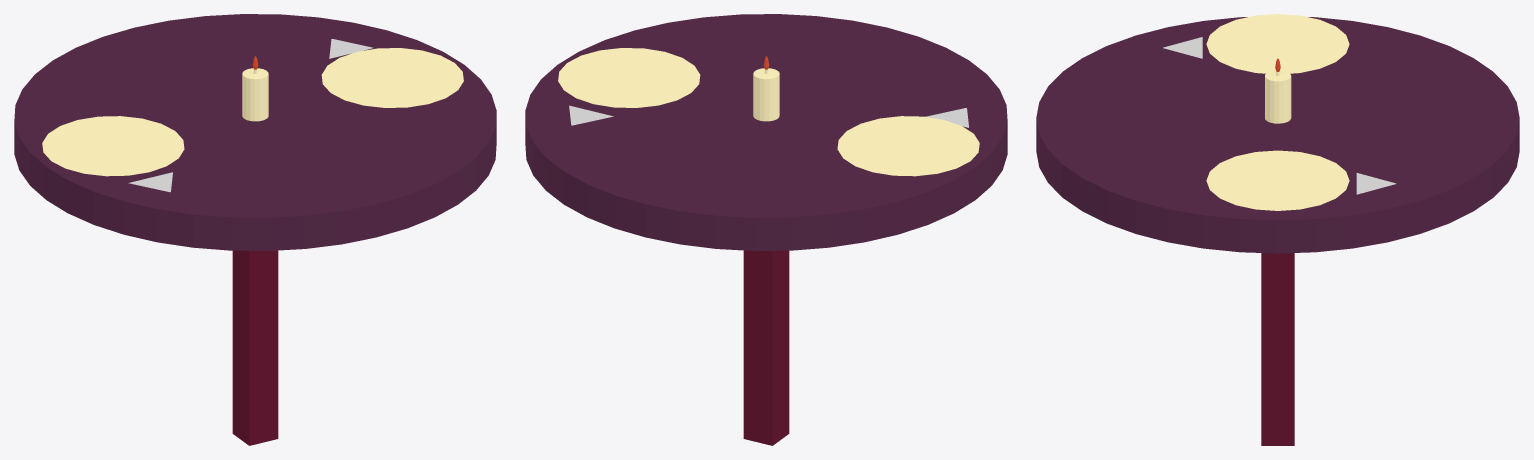
3 views of the same model, side by side, from view 1: azimuth 30°, elevation 25°; view 2: azimuth 150°, elevation 25°; view 3: azimuth 270°, elevation 25° (orthographic).
Parts seen in each view (by area): view 1: Cube, Cube.001, Cylinder, Cylinder.001, Cylinder.002, Plane.001, Plane.002; view 2: Cube, Cube.001, Cylinder, Cylinder.001, Cylinder.002, Plane.002; view 3: Cube, Cylinder.001, Cylinder, Cube.001, Cylinder.002, Plane.002, Plane.001.
Part boxes in pixels (bbox=[...]): Cube: bbox=[14, 14, 496, 250]; Cube.001: bbox=[232, 250, 278, 445]; Cylinder: bbox=[42, 116, 184, 176]; Cylinder.001: bbox=[321, 48, 463, 107]; Cylinder.002: bbox=[242, 56, 268, 121]; Plane.001: bbox=[128, 172, 172, 192]; Plane.002: bbox=[329, 39, 373, 58]; Cube: bbox=[525, 14, 1007, 250]; Cube.001: bbox=[743, 250, 789, 445]; Cylinder: bbox=[837, 116, 979, 176]; Cylinder.001: bbox=[558, 48, 700, 107]; Cylinder.002: bbox=[753, 56, 779, 121]; Plane.002: bbox=[569, 105, 613, 125]; Cube: bbox=[1036, 17, 1519, 253]; Cylinder.001: bbox=[1206, 150, 1349, 210]; Cylinder: bbox=[1206, 14, 1349, 73]; Cube.001: bbox=[1261, 253, 1294, 445]; Cylinder.002: bbox=[1265, 58, 1291, 123]; Plane.002: bbox=[1356, 173, 1396, 194]; Plane.001: bbox=[1163, 37, 1202, 58].
Size of what is drawn, in the model's own units: 3.65 by 3.17 by 3.65.
Materials: 1 (1 with a texture image).
